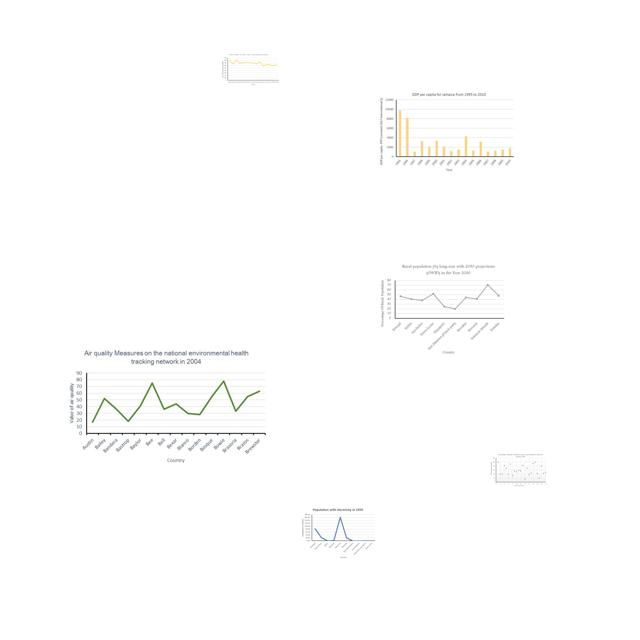Graph: (65, 346, 270, 467), (379, 262, 505, 356), (378, 91, 516, 173), (299, 506, 377, 561), (221, 53, 280, 86), (490, 453, 547, 487)
